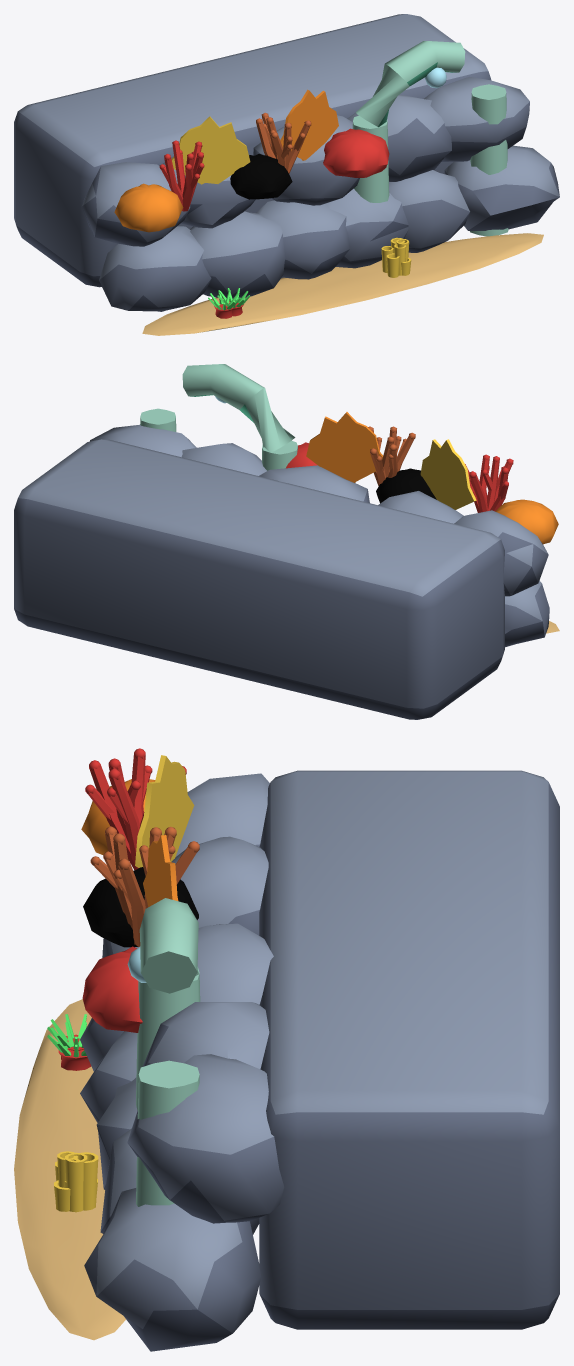
Rendered from ReefWallC.fbx.
The picture shows the model from 3 angles, top to bottom: view 1: azimuth 30°, elevation 25°; view 2: azimuth 150°, elevation 25°; view 3: azimuth 270°, elevation 25°; orthographic projection. The views are drawn at different scales.
Parts seen in each view (by area): view 1: ReefWallC; view 2: ReefWallC; view 3: ReefWallC.
Part boxes in pixels (<box>): ReefWallC: <box>14,14,559,335</box>; ReefWallC: <box>14,364,559,719</box>; ReefWallC: <box>14,748,559,1351</box>.
Size of the model in its own units: 8.51 by 3.7 by 4.99.
Materials: 2 (2 with a texture image).
